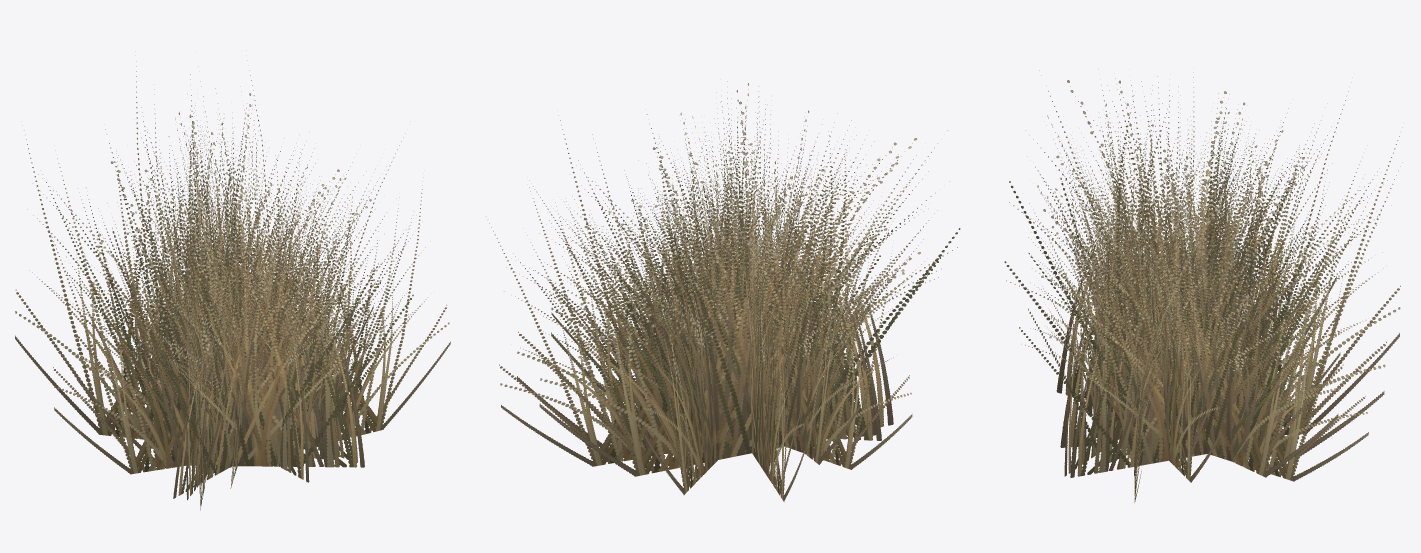
Rendered from grass_clump.glb.
3 views of the same model, side by side, from view 1: azimuth 30°, elevation 25°; view 2: azimuth 150°, elevation 25°; view 3: azimuth 270°, elevation 25° (orthographic). The views are drawn at different scales.
Visible parts, largest first — view 1: GrassClump; view 2: GrassClump; view 3: GrassClump.
Boxes of the visible parts, x1,y1,x2,y2 form: GrassClump: [15, 60, 450, 510]; GrassClump: [489, 81, 960, 501]; GrassClump: [1004, 70, 1402, 502].
Size of the model in its own units: 0.7866 by 0.6924 by 0.7163.
Materials: 1 (1 with a texture image).
